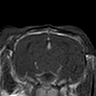Brain: (14, 35, 83, 82)
